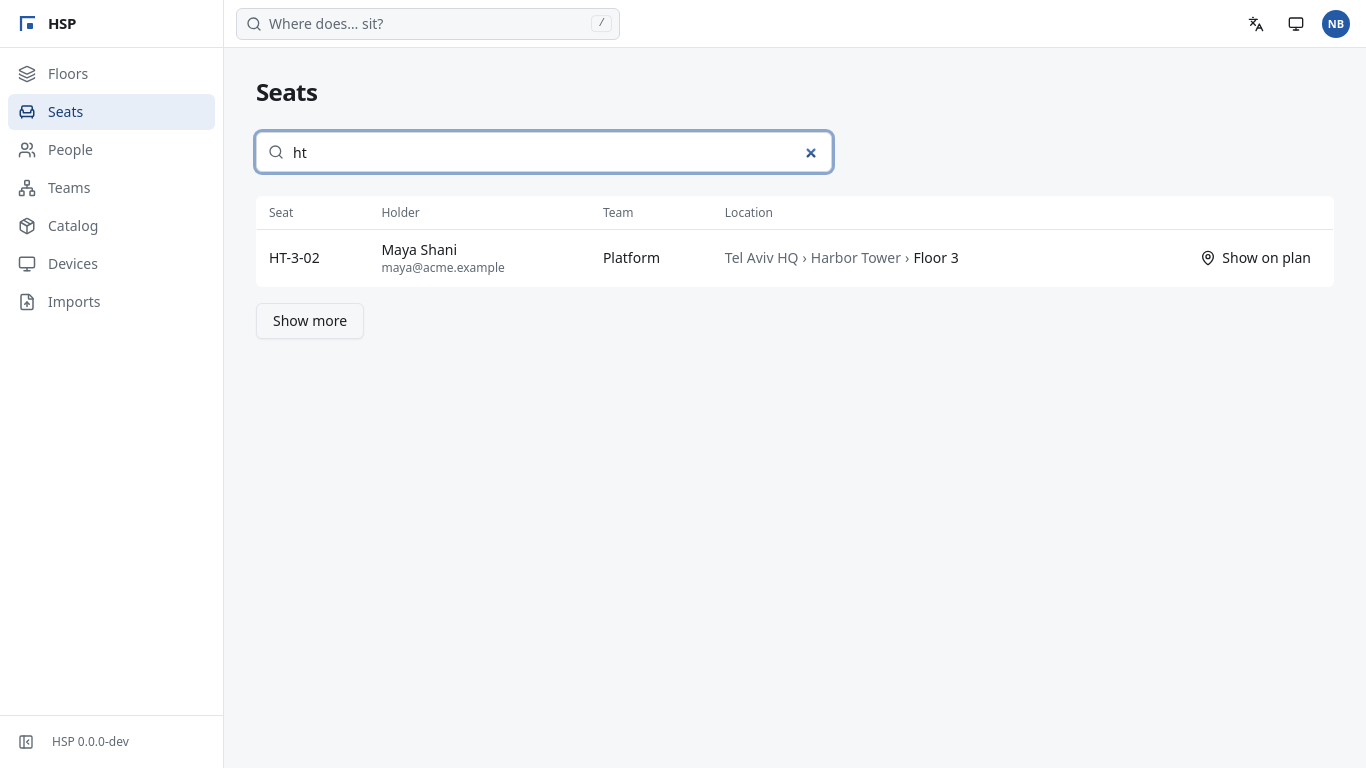
where does X sit? (docs/0085, docs/0087) › loads more results on request
The width and height of the screenshot is (1366, 768).
Click the button "Show more" at (310, 321), box [256,303,364,339]
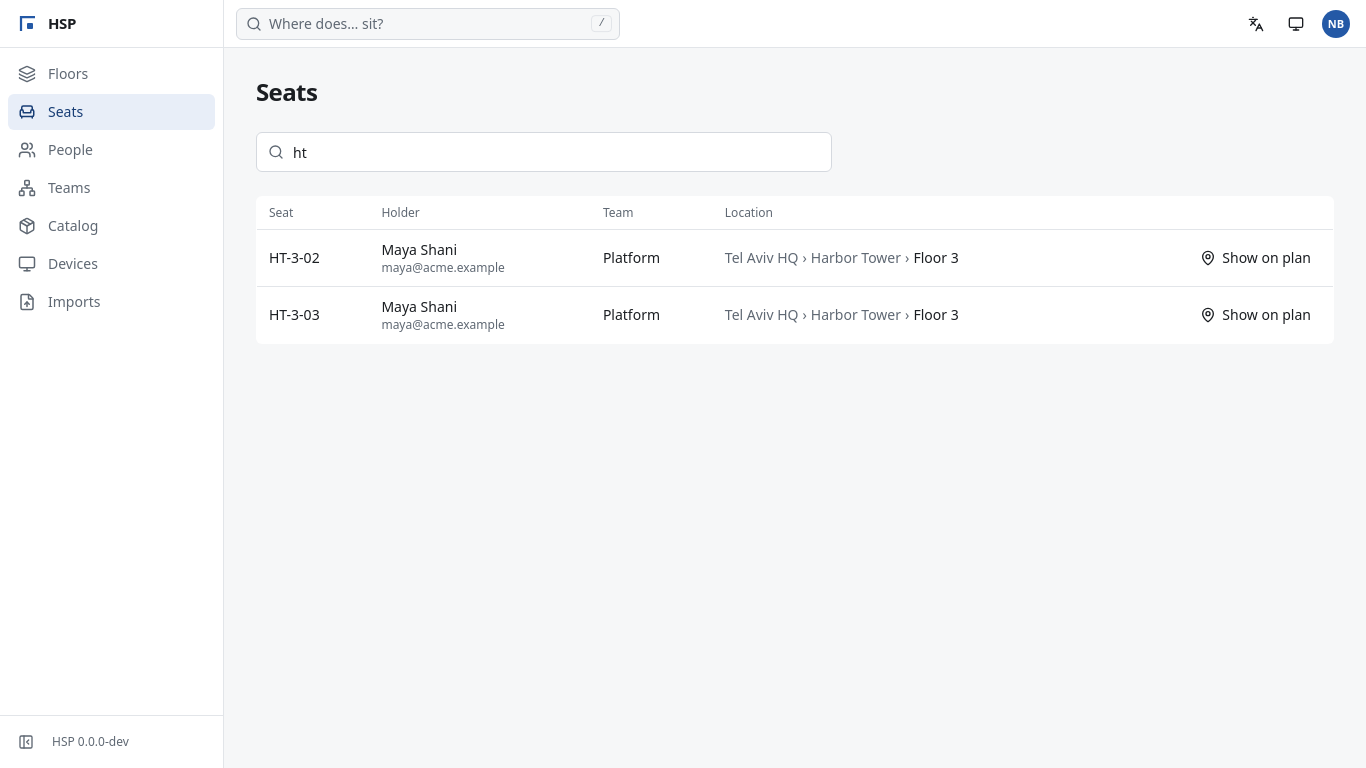
Expected: the row "HT-3-02" is shown, [256,230,1334,286]
Expected: the row "HT-3-03" is shown, [256,286,1334,344]
Expected: the button "Show more" is gone
